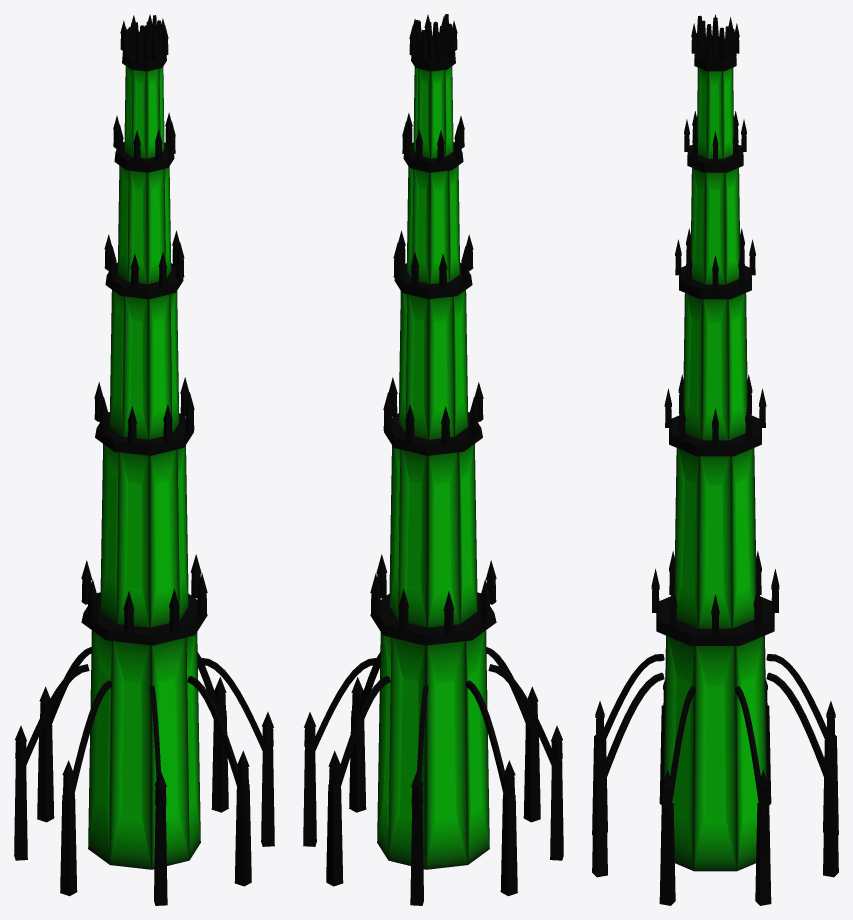
The model's file is spire.glb.
3 renders of one model, left to right at view 1: azimuth 30°, elevation 25°; view 2: azimuth 150°, elevation 25°; view 3: azimuth 270°, elevation 25°, orthographic.
Visible parts, largest first — view 1: spire; view 2: spire; view 3: spire.
Part boxes in pixels (left/top/right/bottom): spire: left=14, top=14, right=274, bottom=905; spire: left=303, top=14, right=563, bottom=905; spire: left=592, top=14, right=838, bottom=905.
Size of the model in its own units: 90.88 by 339 by 90.88.
